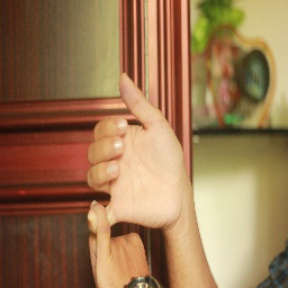S: (82, 63, 187, 288)
